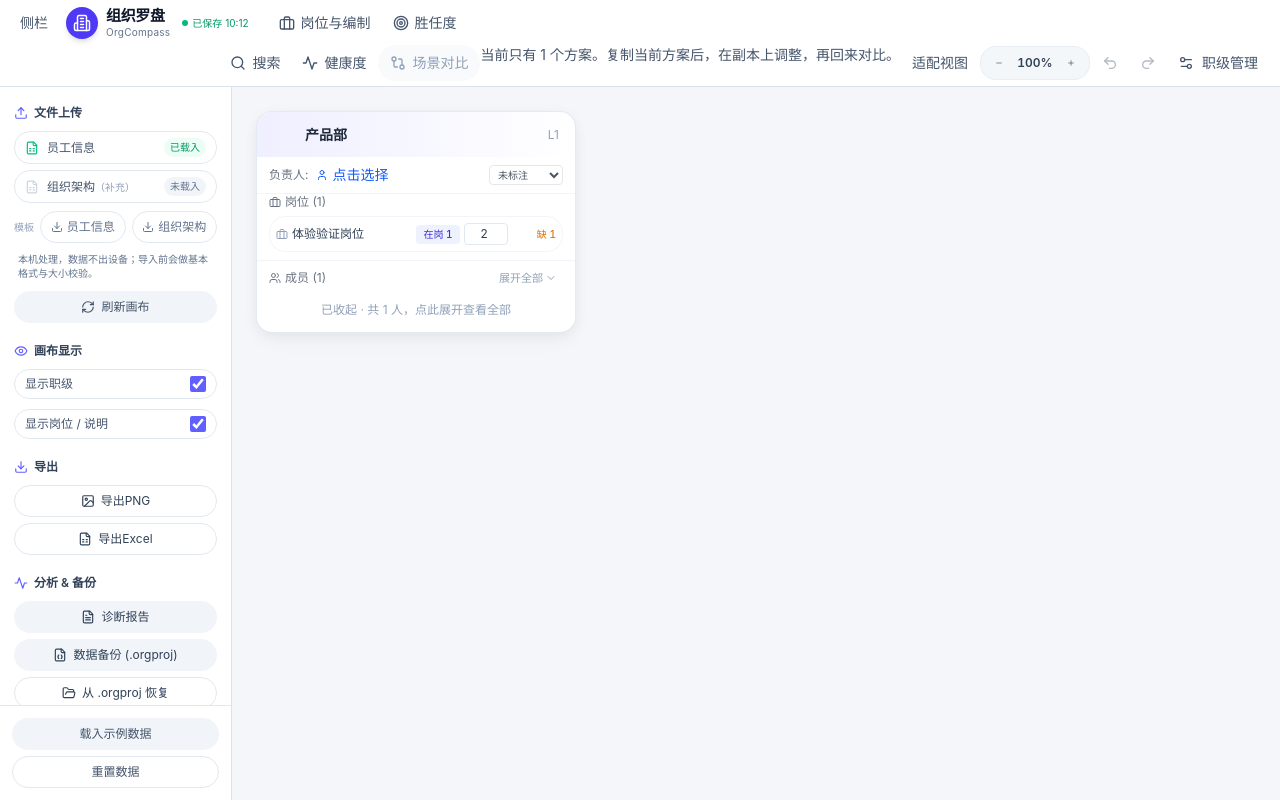
Test: T09 回归：缺口清单与胜任度看板同源（岗位只存在于部门树） › 看板与缺口清单显示同一岗位与同一待补数
Note: 胜任度看板（既有正确路径）
Click the button "胜任度" at (425, 23), box left=383, top=5, right=467, bottom=41
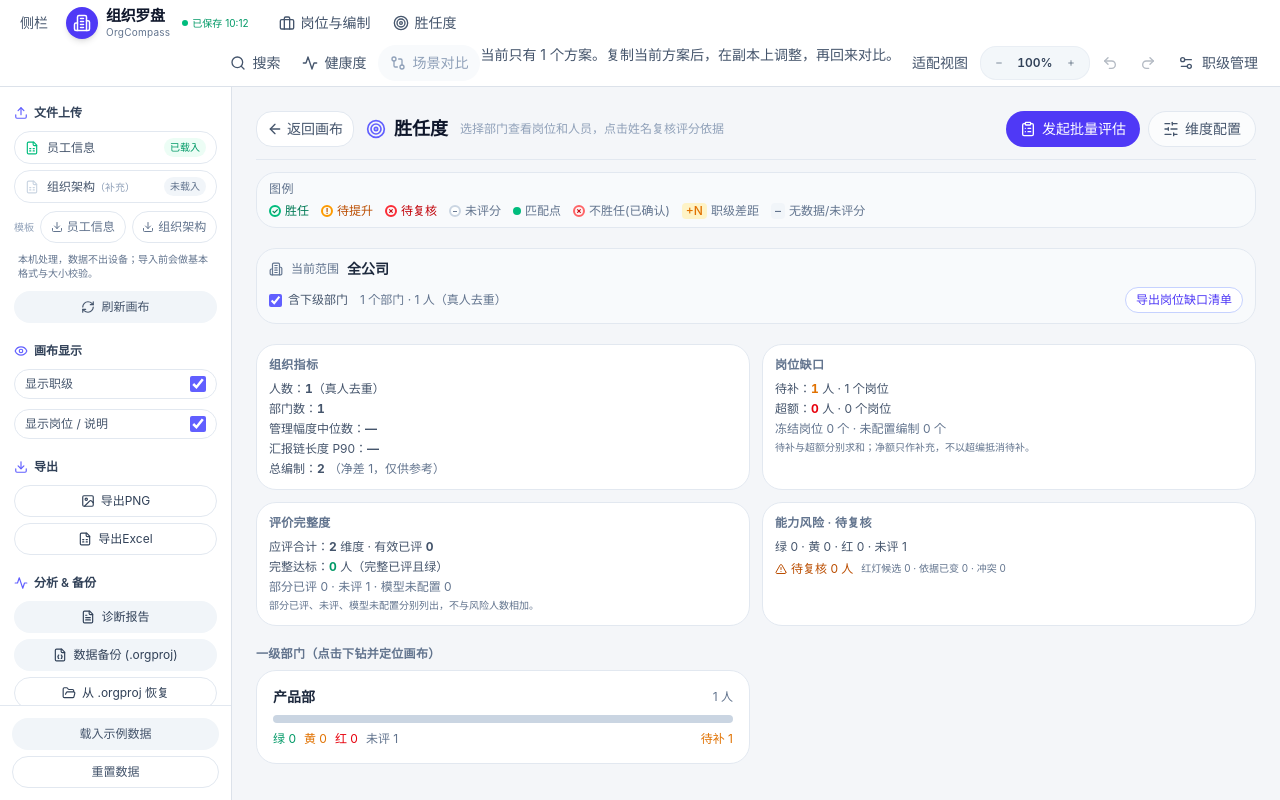
Expected: the text "1" next to "待补：" is shown, left=811, top=381, right=819, bottom=396
Click the button "返回画布" at (305, 129), box left=256, top=111, right=354, bottom=147
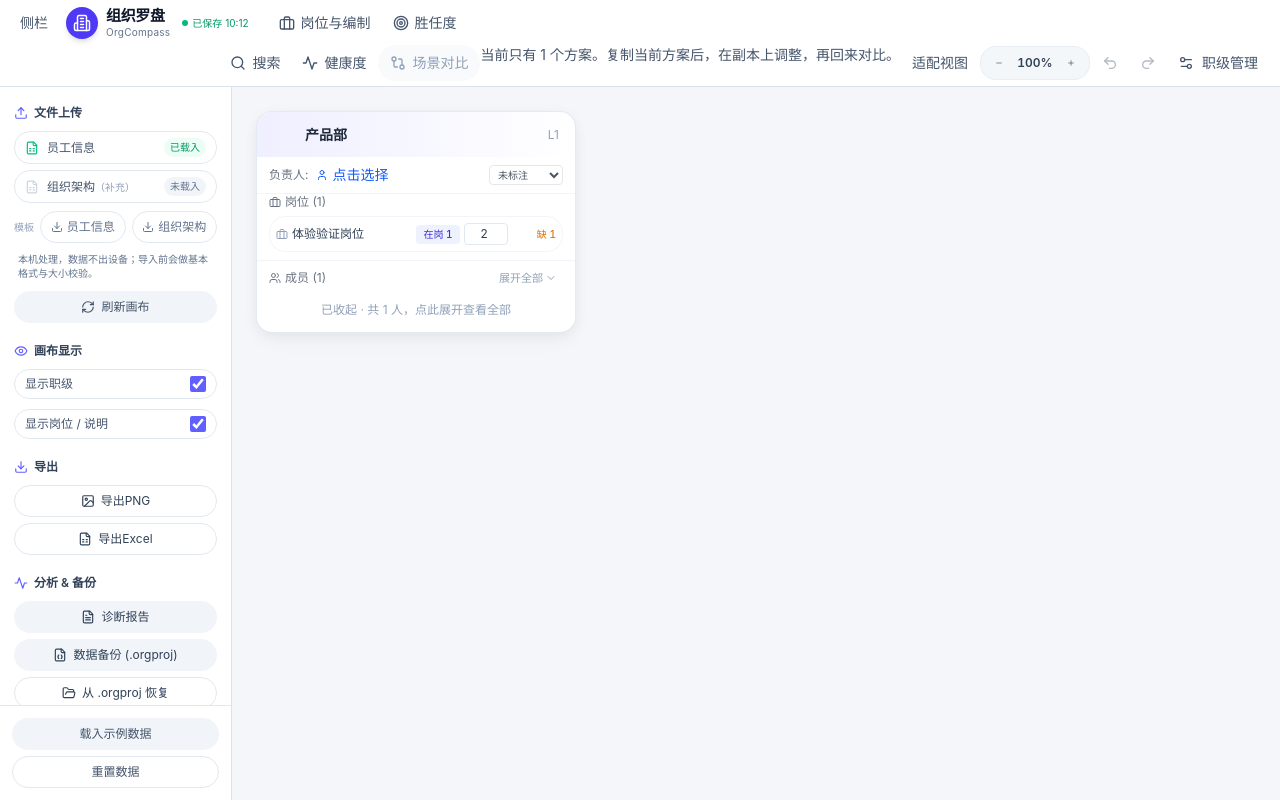
Click the button "岗位与编制" at (325, 23), box left=269, top=5, right=381, bottom=41
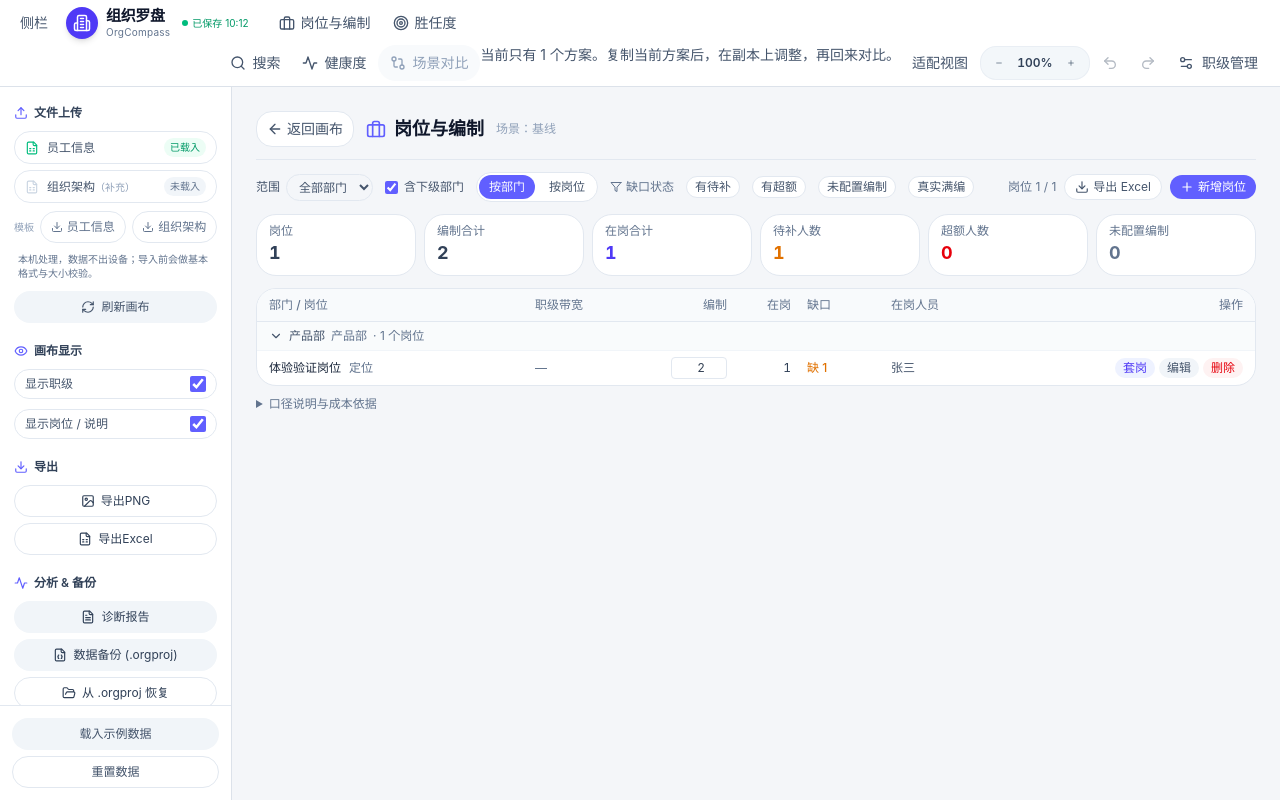
Expected: the text "体验验证岗位" is shown, left=269, top=360, right=341, bottom=376
Expected: the text "岗位 1 / 1" is shown, left=1008, top=179, right=1056, bottom=195
Expected: the text "1" below "待补人数" is shown, left=773, top=242, right=785, bottom=263
